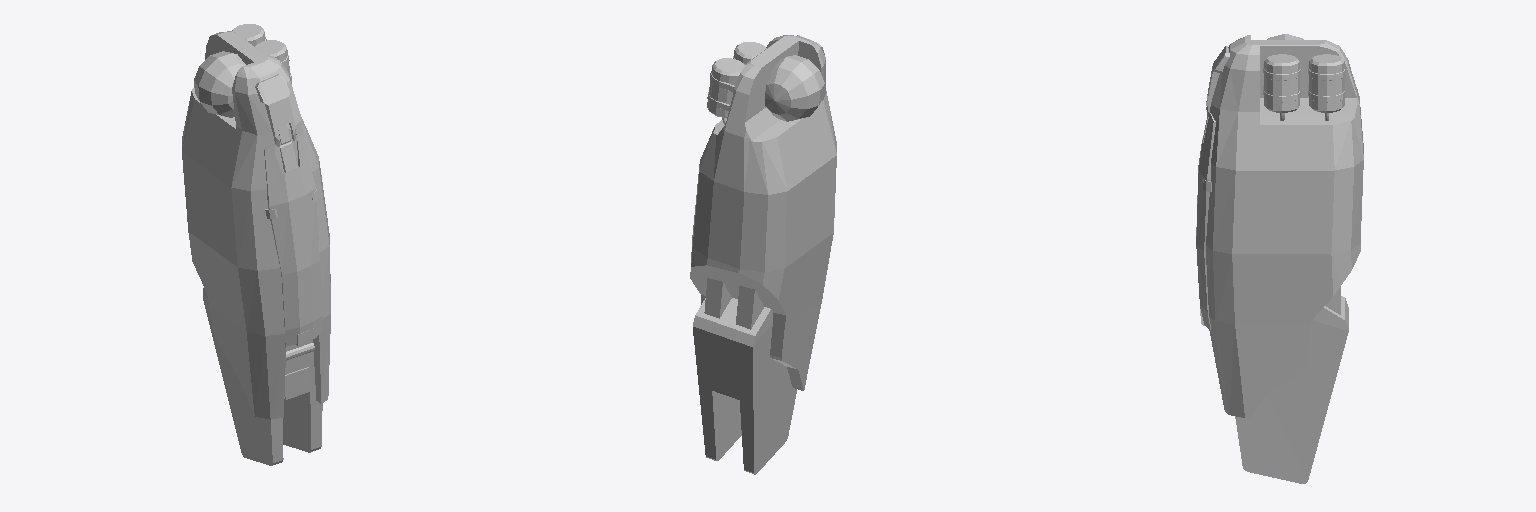
3 renders of one model, left to right at view 1: azimuth 30°, elevation 25°; view 2: azimuth 150°, elevation 25°; view 3: azimuth 270°, elevation 25°, orthographic.
Visible parts, largest first — view 1: T1 legs polySurface118, T1 legs polySurface95, T1 legs polySurface101, T1 legs polySurface120, T1 legs polySurface117, T1 legs polySurface116; view 2: T1 legs polySurface118, T1 legs polySurface101, T1 legs polySurface120, T1 legs polySurface74, T1 legs polySurface113, T1 legs polySurface112; view 3: T1 legs polySurface118, T1 legs polySurface101, T1 legs polySurface95, T1 legs polySurface114, T1 legs polySurface74, T1 legs polySurface117.
Part boxes in pixels (x1,y1,x2,y2): T1 legs polySurface118: (182, 31, 330, 419); T1 legs polySurface95: (264, 134, 322, 346); T1 legs polySurface101: (203, 288, 322, 465); T1 legs polySurface120: (194, 51, 245, 117); T1 legs polySurface117: (255, 74, 295, 146); T1 legs polySurface116: (284, 367, 309, 399); T1 legs polySurface118: (690, 35, 836, 390); T1 legs polySurface101: (693, 298, 796, 474); T1 legs polySurface120: (765, 55, 824, 121); T1 legs polySurface74: (707, 58, 744, 117); T1 legs polySurface113: (736, 286, 763, 329); T1 legs polySurface112: (704, 278, 731, 318); T1 legs polySurface118: (1206, 35, 1363, 417); T1 legs polySurface101: (1235, 296, 1348, 483); T1 legs polySurface95: (1196, 113, 1215, 329); T1 legs polySurface114: (1264, 54, 1299, 112); T1 legs polySurface74: (1309, 54, 1344, 112); T1 legs polySurface117: (1206, 46, 1229, 116).
Size of the model in its own units: 15.1 by 55.07 by 19.95.